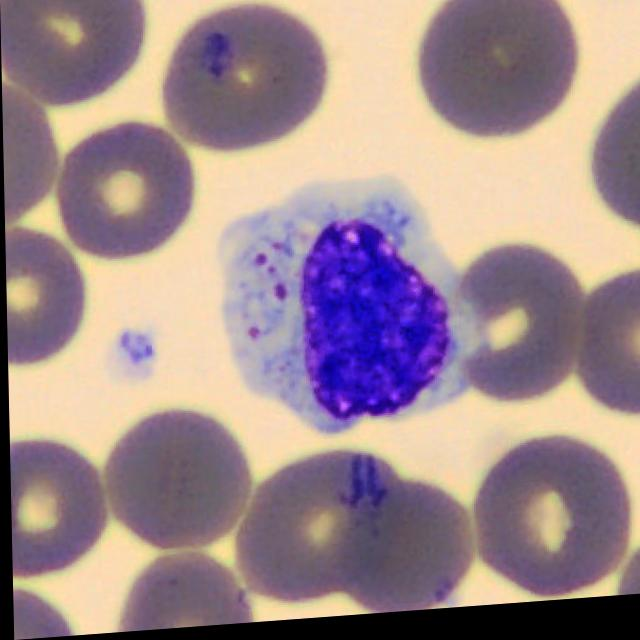Linfocito atipico: (216, 183, 464, 442)
